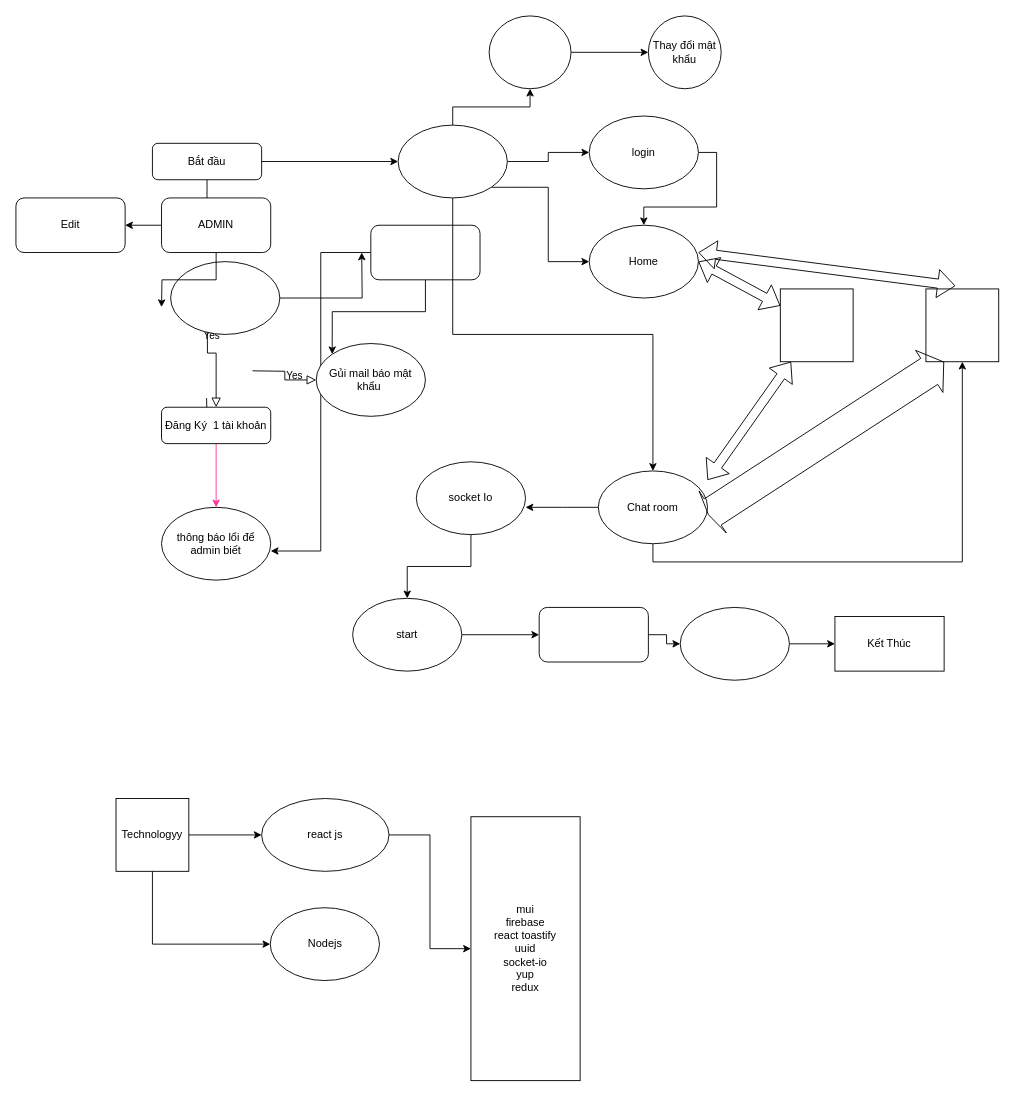
Some shapes in this 1015 by 1097 pixel diagram are drawn without their labels. The box of each missing label's shape, as (x1, y1, x2, y2) in pixels:
Client: (397, 124, 507, 198)
mentor: (925, 288, 999, 362)
profile: (488, 15, 571, 89)
sTudent: (779, 288, 853, 362)
tính bloc: (538, 607, 648, 662)
đánh giá: (679, 607, 789, 680)
Đăng ký: (170, 261, 280, 334)
Đăng ký nhiều tài khỏn: (370, 224, 480, 280)
